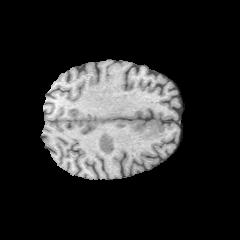glioma: (98, 96, 166, 154)
